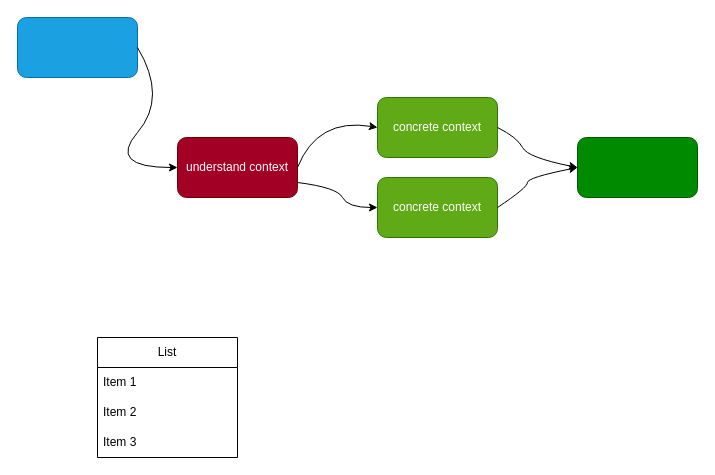
This 715x475 diagram has some shape labels left out. Here are the shapes that lost their labels. From the top down, the box of each, then its label:
(16, 16, 138, 78): User Request
(576, 136, 698, 198): Response
